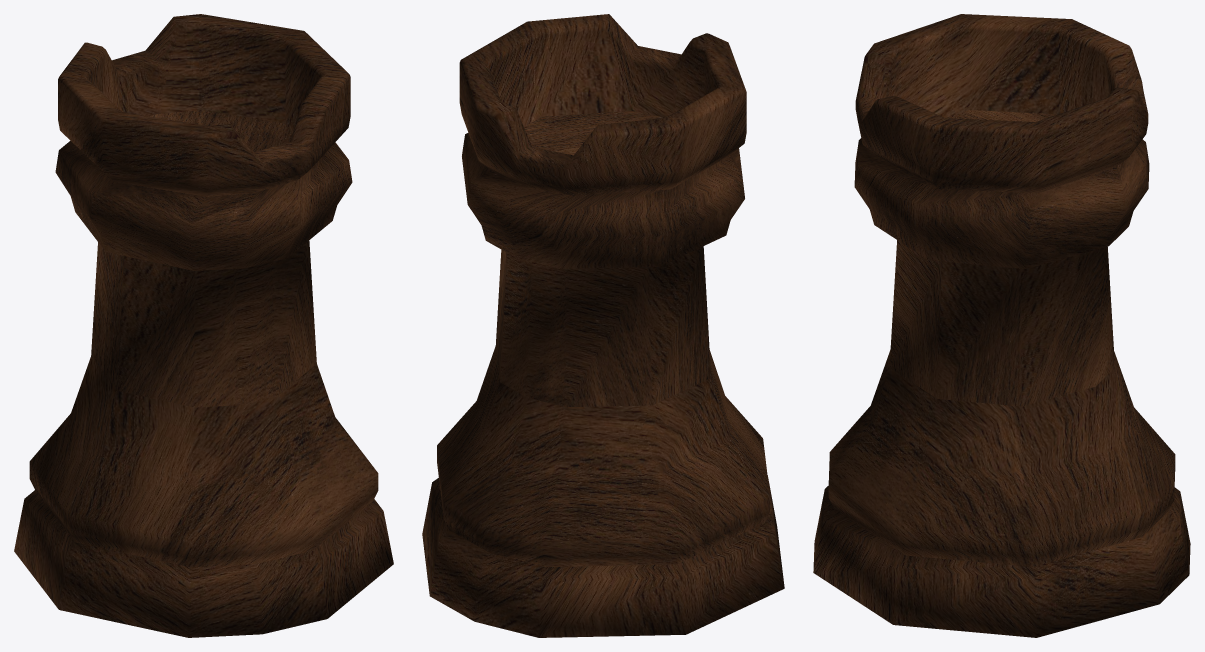
The picture shows the model from 3 angles, left to right: view 1: azimuth 30°, elevation 25°; view 2: azimuth 150°, elevation 25°; view 3: azimuth 270°, elevation 25°; orthographic projection.
Visible parts, largest first — view 1: BlackRook; view 2: BlackRook; view 3: BlackRook.
Boxes of the visible parts, bbox=[...] form: BlackRook: bbox=[14, 14, 393, 637]; BlackRook: bbox=[422, 14, 784, 637]; BlackRook: bbox=[813, 14, 1190, 637].
Size of the model in its own units: 0.0295 by 0.042 by 0.0295.
Materials: 1 (1 with a texture image).
